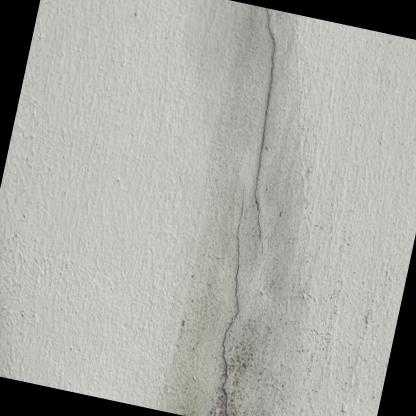crack: (220, 186, 247, 416), (252, 9, 277, 256)
